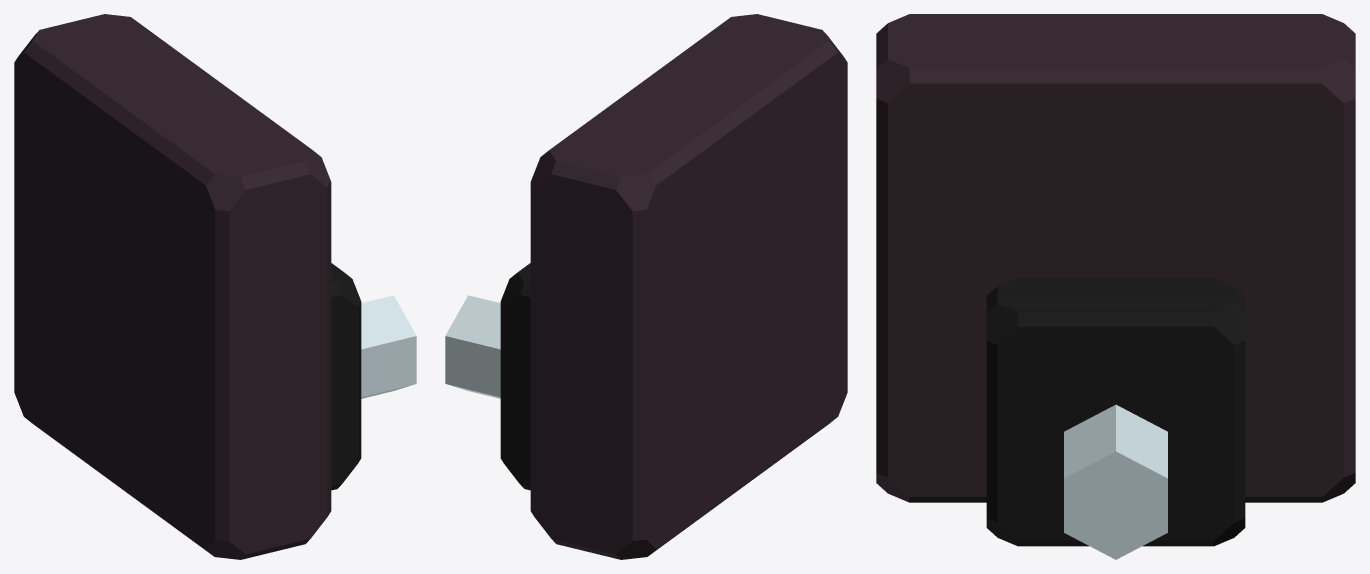
File: YK_Wheel_Base.obj
3 renders of one model, left to right at view 1: azimuth 30°, elevation 25°; view 2: azimuth 150°, elevation 25°; view 3: azimuth 270°, elevation 25°, orthographic. The views are drawn at different scales.
Parts seen in each view (by area): view 1: Cube; view 2: Cube; view 3: Cube.
Part boxes in pixels (box(x1,y1,x2,y2)): Cube: box(14, 14, 416, 559); Cube: box(445, 14, 847, 559); Cube: box(876, 14, 1355, 559).
Size of the model in its own units: 0.61 by 0.8 by 0.8.
